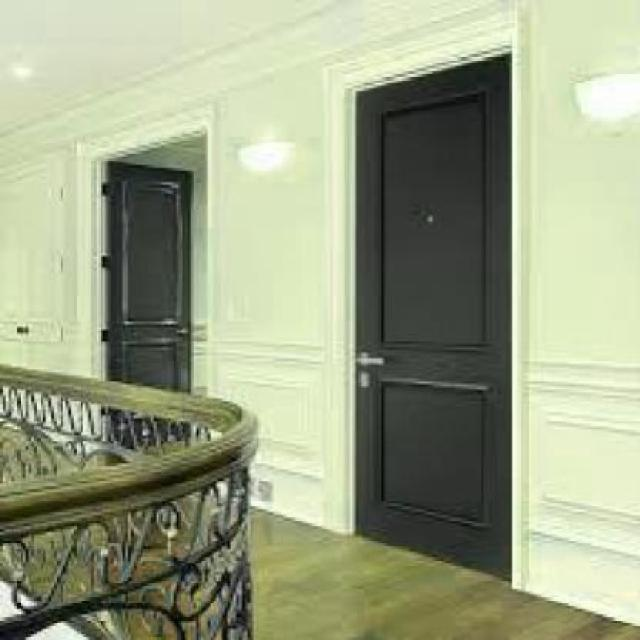door_handle: (354, 351, 390, 371)
